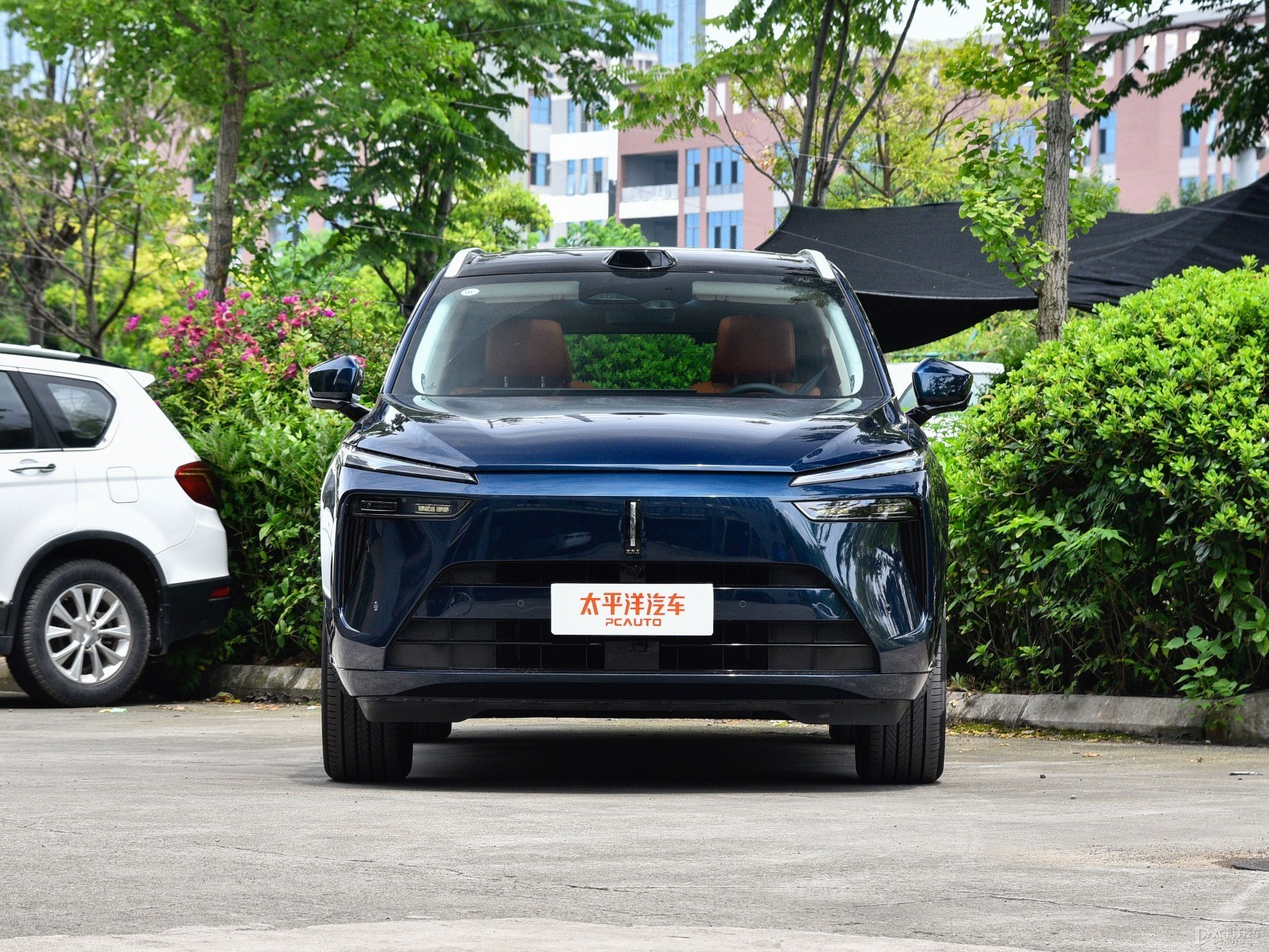WEY: (626, 499, 640, 555)
